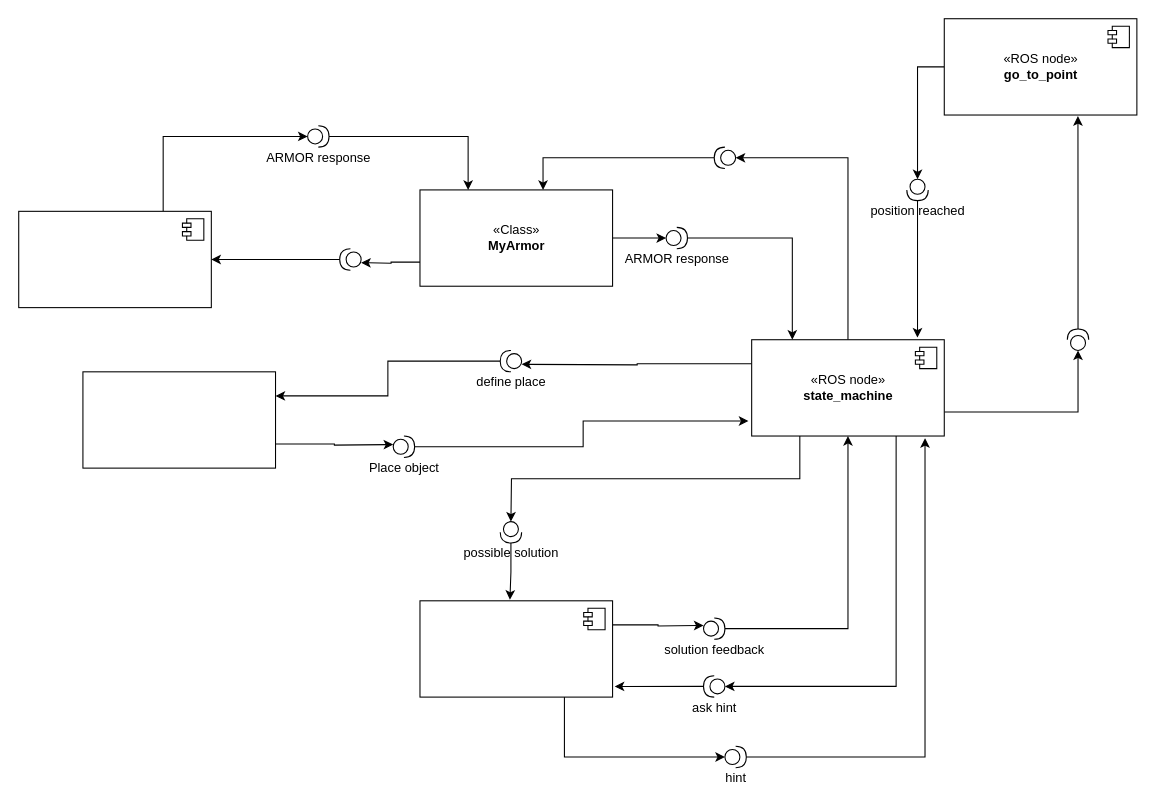
The diagram is 1156 pixels wide and 805 high, and some of its shapes have lost their labels. Here are the shapes that lost their labels. From the top down, the centre of each, then its label:
(724,157): ARMOR command
(114,259): «aRMOR ROS Service» Update Ontology
(350,259): ARMOR message
(1077,339): position to reach
(179,419): «Class» Place
(516,648): «ROS node» oracle
